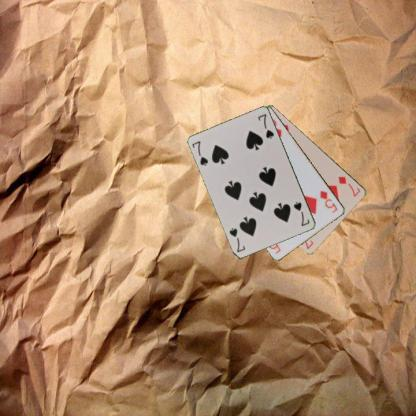5d: (318, 188, 339, 214)
7d: (336, 174, 362, 198)
7s: (292, 199, 312, 228), (190, 139, 210, 167)
